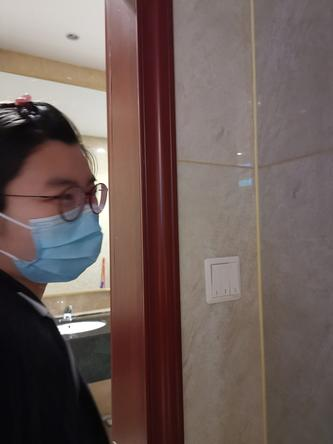switch: (209, 261, 223, 298), (226, 259, 240, 295), (218, 260, 231, 297)
